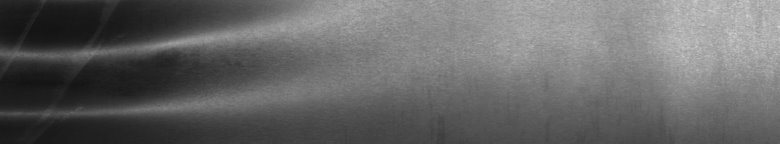ke: (132, 20, 286, 124)
